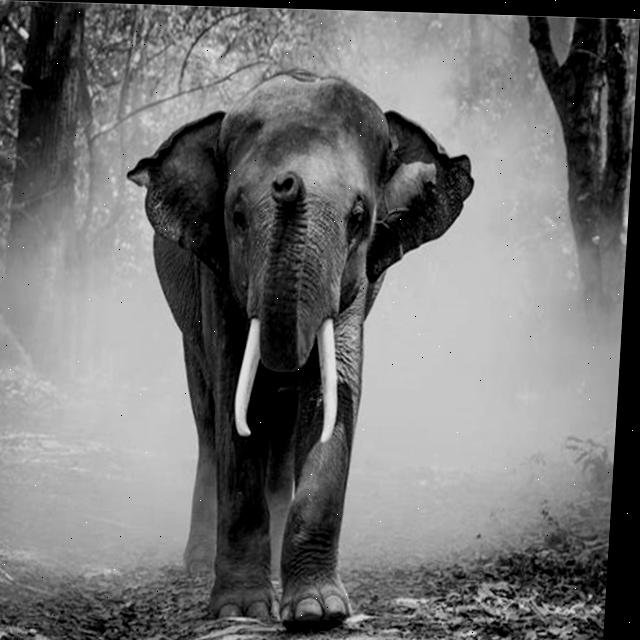Elephant: (100, 62, 481, 634)
